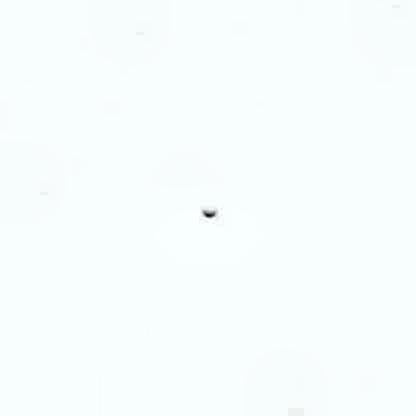golfball: (198, 204, 216, 215)
